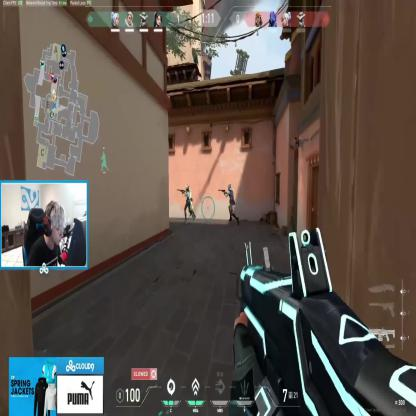enemy: (223, 181, 238, 225), (182, 182, 195, 224)
enemy_head: (185, 184, 190, 192), (228, 183, 232, 191)
